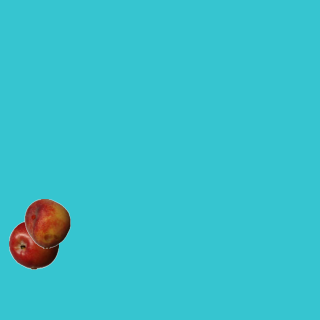Apple Braeburn: (8, 219, 58, 269)
Peach: (22, 198, 72, 248)
